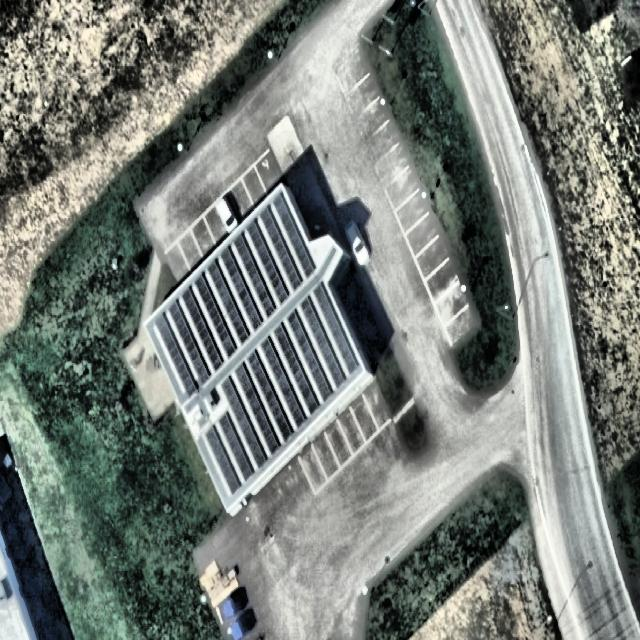roof_pv: (256, 296, 319, 425), (249, 193, 315, 300), (155, 288, 216, 391), (198, 248, 260, 341), (309, 276, 360, 385), (223, 361, 278, 462), (210, 406, 257, 496)
